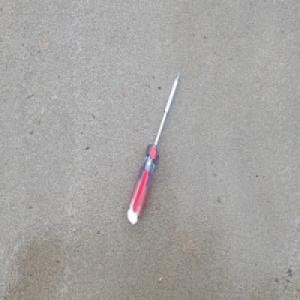Screwdriver: (125, 69, 181, 226)
